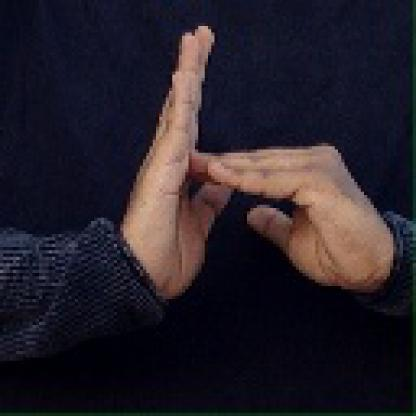Z: (118, 18, 378, 298)
